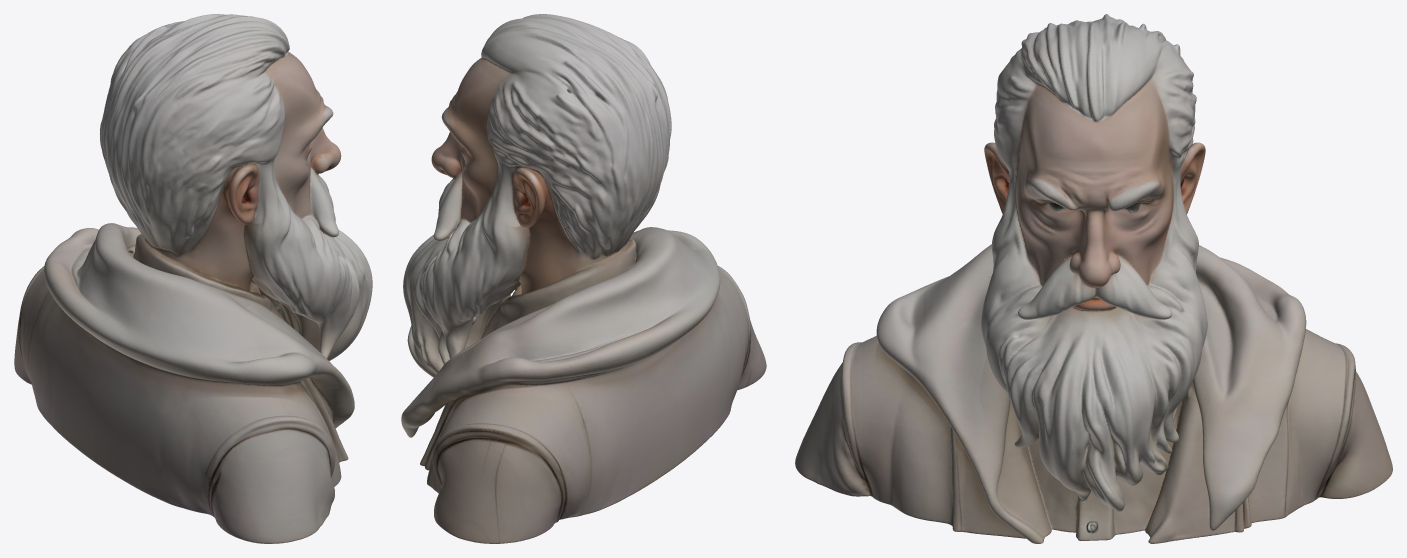
File: detailed_realistic_model_albusdumbledore_22.glb
3 renders of one model, left to right at view 1: azimuth 30°, elevation 25°; view 2: azimuth 150°, elevation 25°; view 3: azimuth 270°, elevation 25°, orthographic. The views are drawn at different scales.
Parts seen in each view (by area): view 1: tripo_node_29429a7c-1f9e-4d42-807d-151c6d6ce8c9; view 2: tripo_node_29429a7c-1f9e-4d42-807d-151c6d6ce8c9; view 3: tripo_node_29429a7c-1f9e-4d42-807d-151c6d6ce8c9.
Part boxes in pixels (left/top/right/bottom): tripo_node_29429a7c-1f9e-4d42-807d-151c6d6ce8c9: left=14, top=14, right=372, bottom=543; tripo_node_29429a7c-1f9e-4d42-807d-151c6d6ce8c9: left=401, top=14, right=766, bottom=543; tripo_node_29429a7c-1f9e-4d42-807d-151c6d6ce8c9: left=795, top=14, right=1392, bottom=543.
Size of the model in its own units: 0.6143 by 0.8587 by 1.
1 material, 1 textured.
